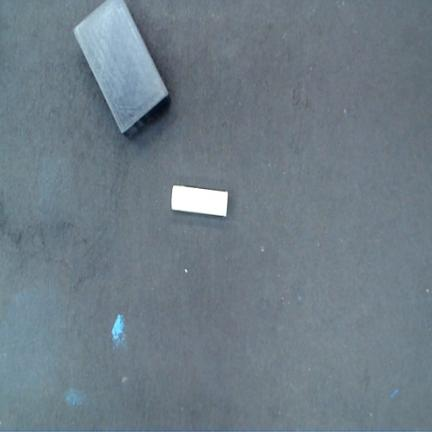Cilindro: (171, 184, 228, 217)
Paralelepipedo: (72, 0, 171, 137)
